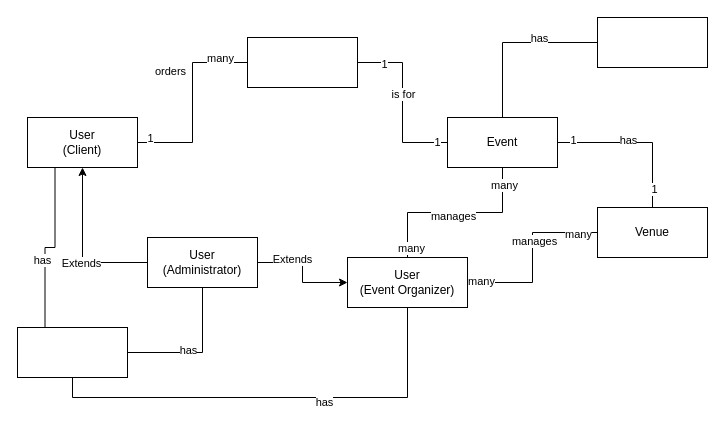
Image size: 725x426. Some labels were removed from this diagram. The shapes that lost their labels are listed below. From the top down, each one's centre as x and y in pixels, then its label:
At pixel 302 62: "Ticket".
At pixel 652 42: "Date".
At pixel 72 352: "Account".
